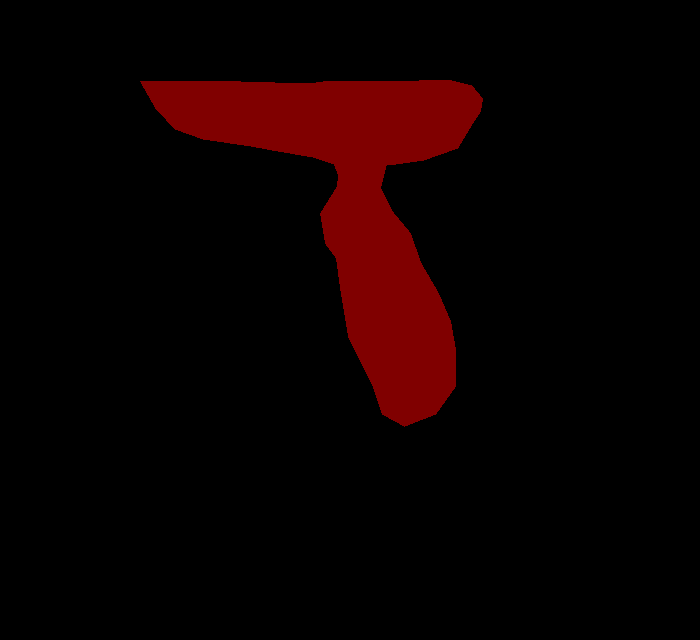fire: (140, 80, 482, 426)
